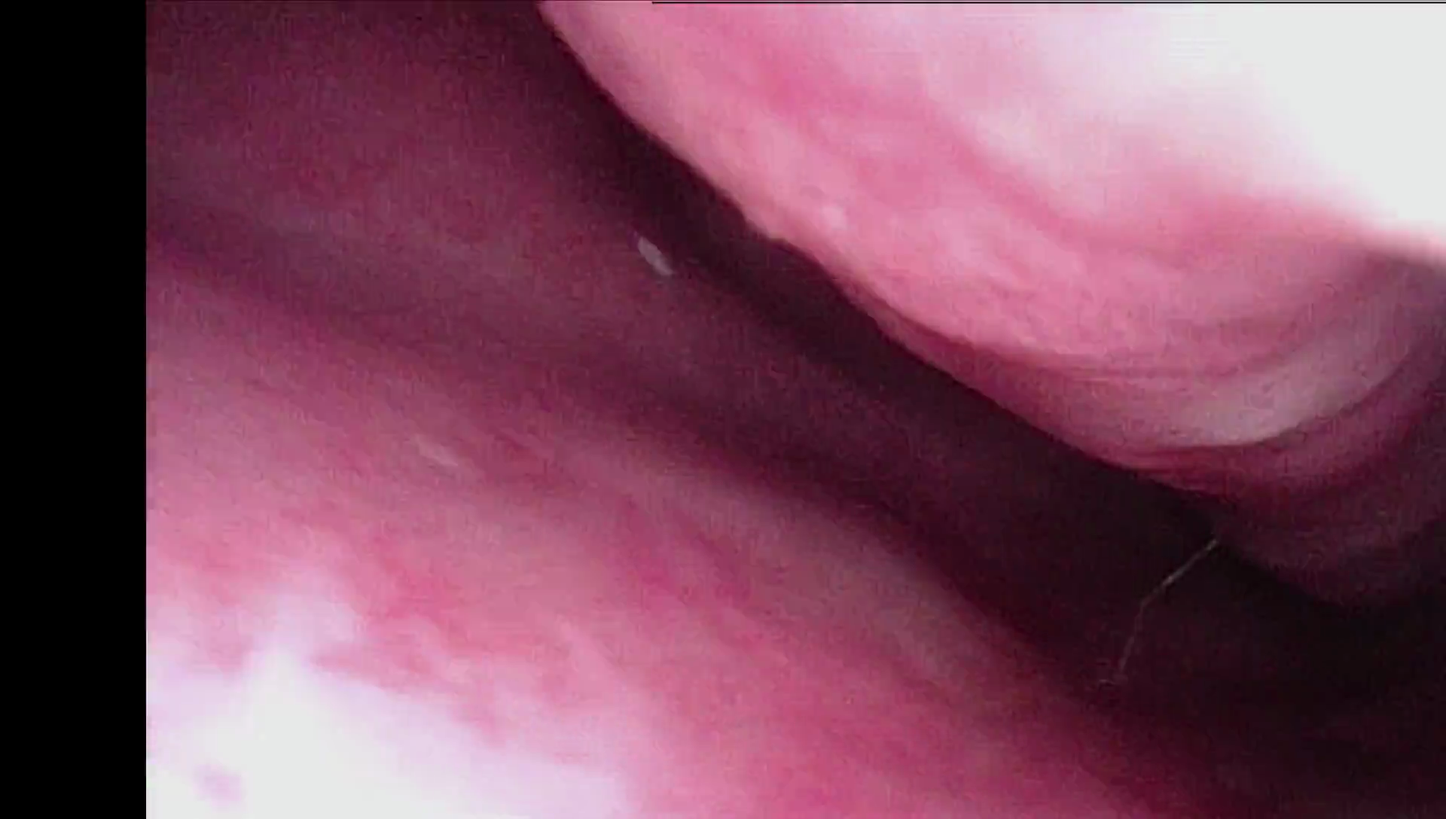close_wall: (158, 519, 731, 819), (897, 0, 1446, 281)
next: (1007, 425, 1446, 819)
